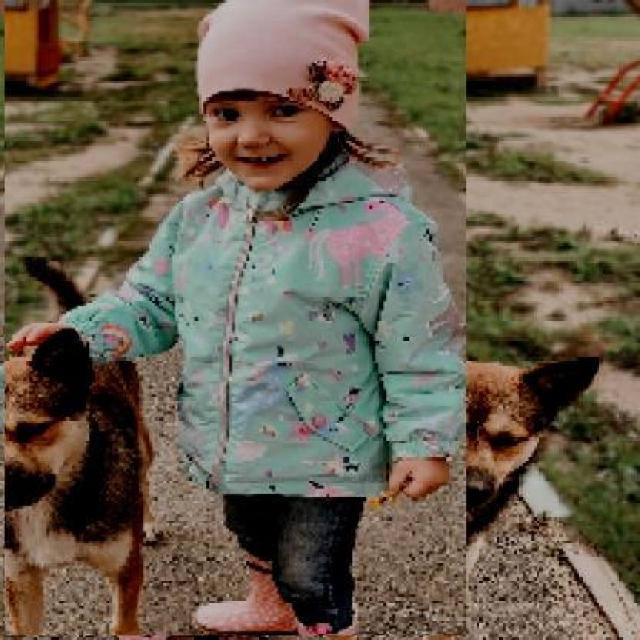child: (3, 0, 466, 637)
